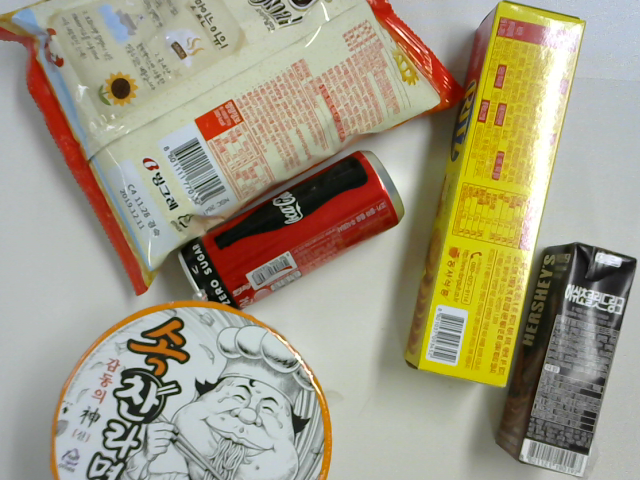Coca_Cola_Zero_Can_250ml: (176, 149, 406, 309)
Crabrang: (1, 1, 468, 297)
Hejangchan: (49, 301, 332, 480)
Hush_Choco_Drink: (493, 243, 637, 480)
Ritz_Remon_96g: (403, 1, 585, 387)
